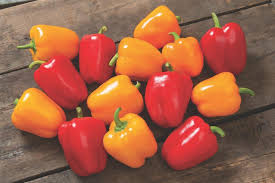bell pepper: (92, 103, 162, 171), (41, 114, 113, 176), (8, 87, 79, 147), (155, 114, 224, 168), (198, 13, 251, 78), (35, 56, 93, 112), (81, 69, 144, 120), (123, 2, 187, 52), (23, 20, 82, 73), (145, 65, 191, 131), (189, 68, 247, 119), (163, 34, 215, 90), (70, 27, 119, 86), (113, 35, 164, 79)
